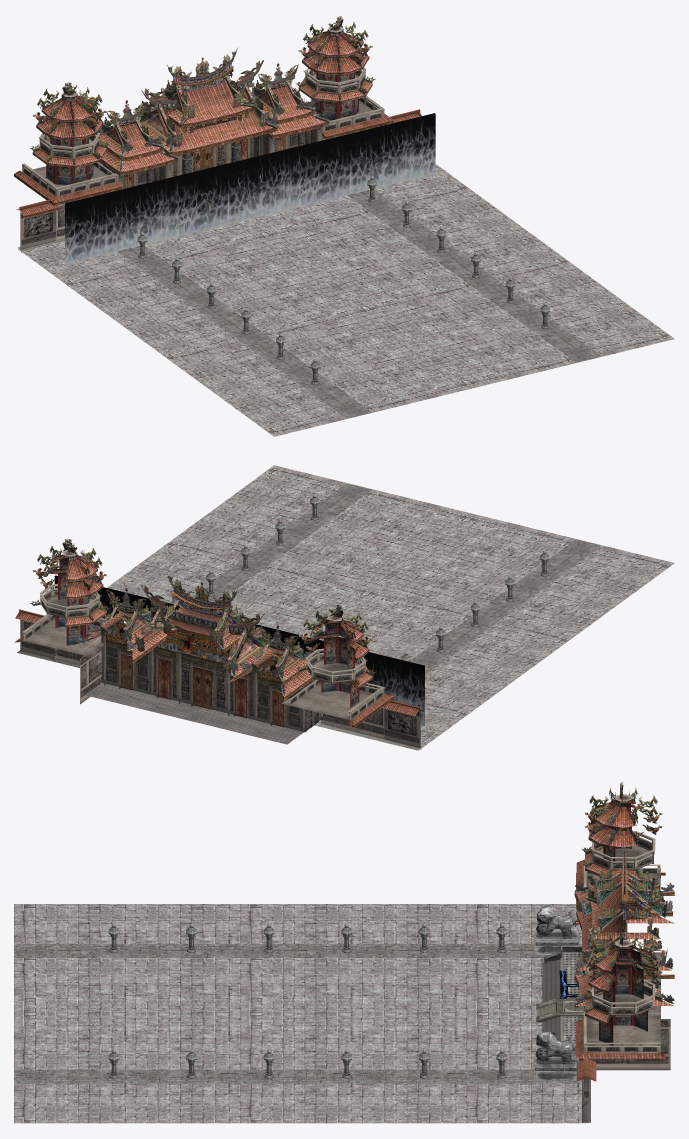
Rendered from mazu_scene.FBX.
3 views of the same model, one above another, from view 1: azimuth 30°, elevation 25°; view 2: azimuth 150°, elevation 25°; view 3: azimuth 270°, elevation 25° (orthographic). The views are drawn at different scales.
Visible parts, largest first — view 1: mazu_floor, mazu_wall, mazu_scene_1, mazu_scene_4, mazu_scene_5, mazu_scene_3; view 2: mazu_floor, mazu_scene_1, mazu_scene_4, mazu_scene_5, mazu_scene_3, mazu_wall, mazu_scene_2; view 3: mazu_floor, mazu_scene_4, mazu_scene_5, mazu_scene_1, mazu_scene_3, mazu_scene_2, mazu_tower.
Part boxes in pixels (x1,y1,x2,y2): mazu_floor: [18, 164, 674, 436]; mazu_wall: [65, 113, 435, 263]; mazu_scene_1: [96, 48, 329, 189]; mazu_scene_4: [24, 27, 549, 384]; mazu_scene_5: [29, 16, 375, 168]; mazu_scene_3: [14, 96, 421, 252]; mazu_floor: [107, 465, 674, 750]; mazu_scene_1: [76, 572, 322, 732]; mazu_scene_4: [22, 494, 549, 738]; mazu_scene_5: [30, 539, 375, 694]; mazu_scene_3: [14, 609, 423, 750]; mazu_wall: [54, 575, 424, 725]; mazu_scene_2: [85, 664, 321, 744]; mazu_floor: [14, 904, 588, 1123]; mazu_scene_4: [108, 794, 670, 1080]; mazu_scene_5: [575, 782, 674, 1020]; mazu_scene_1: [574, 848, 674, 1060]; mazu_scene_3: [542, 859, 665, 1122]; mazu_scene_2: [542, 952, 660, 1056]; mazu_tower: [536, 982, 583, 1022].
Bounding box in the file's own units: 32.74 × 11.14 × 41.66.
9 materials, 9 textured.
